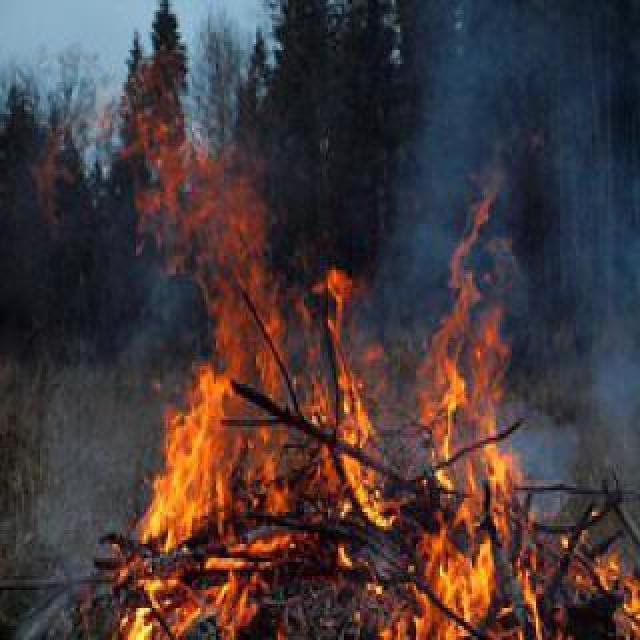Fire: (96, 92, 634, 636)
